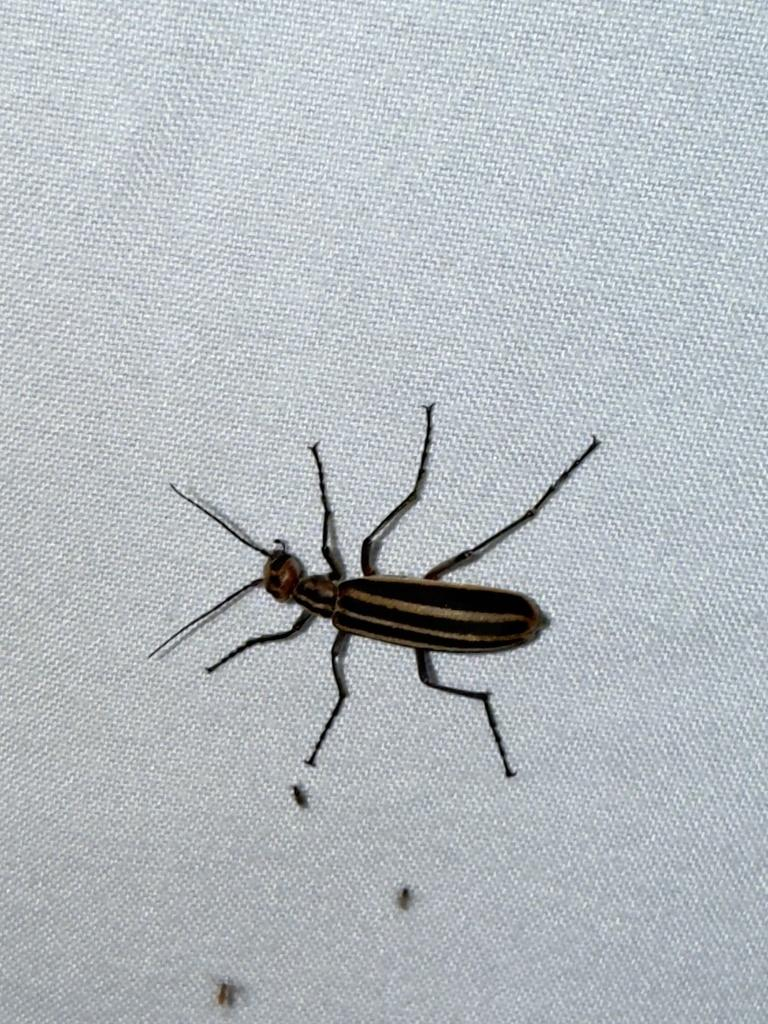blister_beetle: (120, 364, 703, 833)
